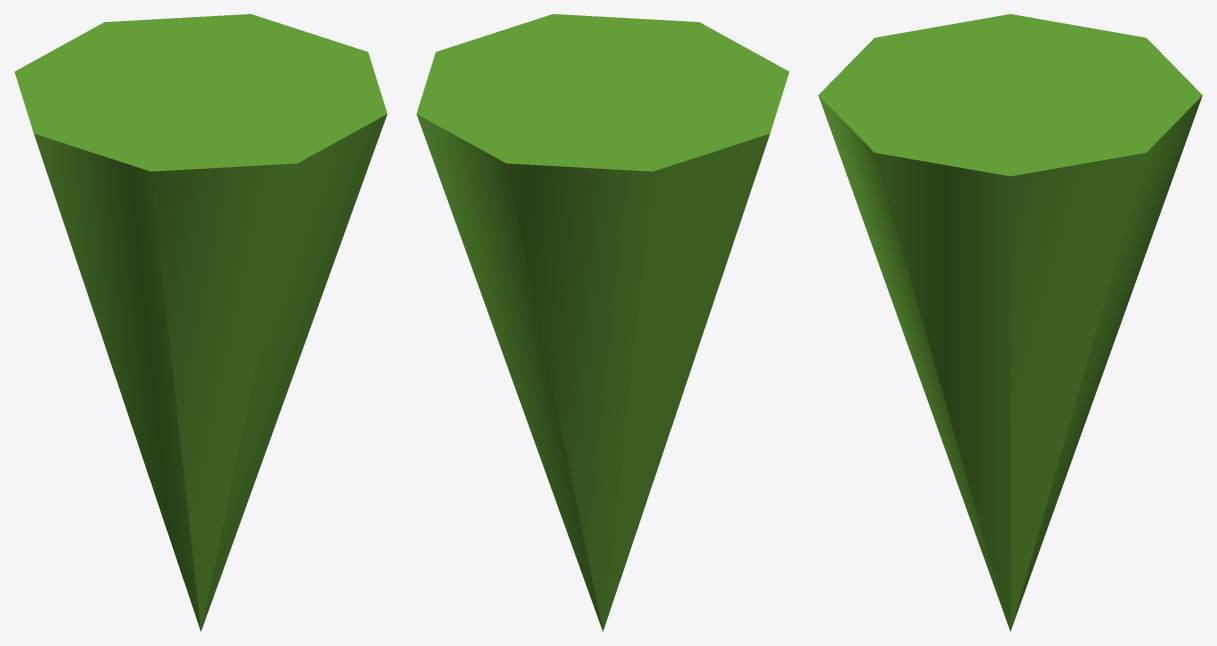
3 views of the same model, side by side, from view 1: azimuth 30°, elevation 25°; view 2: azimuth 150°, elevation 25°; view 3: azimuth 270°, elevation 25° (orthographic).
Parts seen in each view (by area): view 1: Cone; view 2: Cone; view 3: Cone.
Boxes of the visible parts, left/top/right/bottom form: Cone: left=14, top=14, right=387, bottom=631; Cone: left=416, top=14, right=789, bottom=631; Cone: left=818, top=14, right=1202, bottom=631.
Bounding box in the file's own units: 0.4752 × 0.732 × 0.4752.
